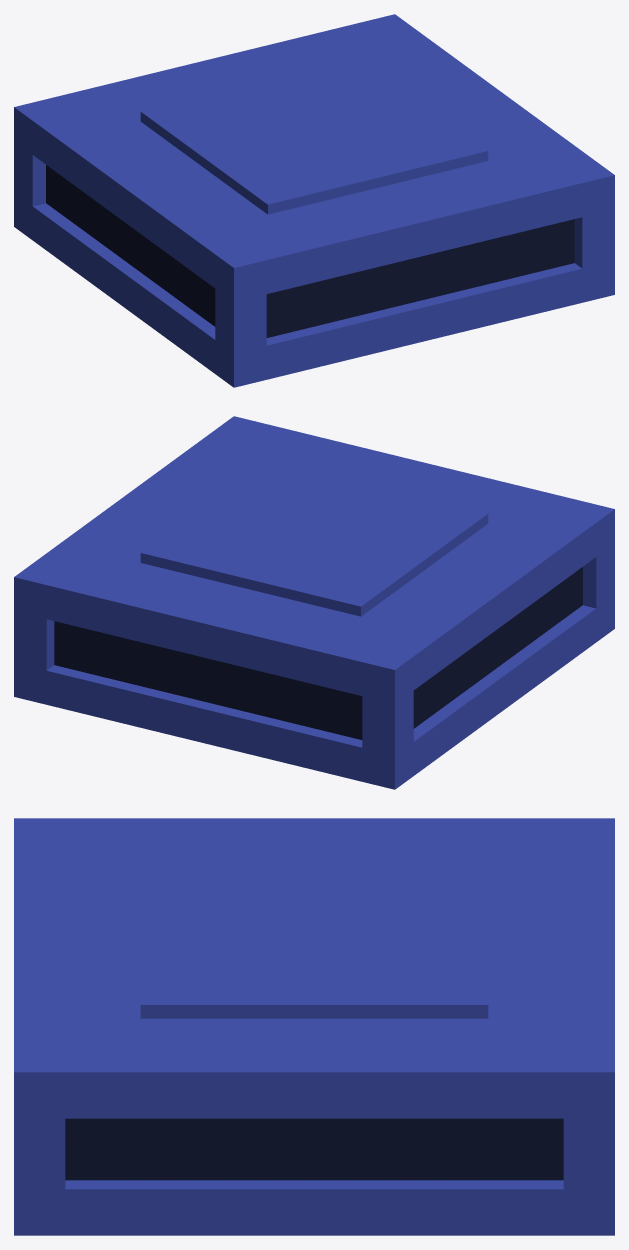
The model's file is top.fbx.
The picture shows the model from 3 angles, top to bottom: view 1: azimuth 30°, elevation 25°; view 2: azimuth 150°, elevation 25°; view 3: azimuth 270°, elevation 25°; orthographic projection. The views are drawn at different scales.
Visible parts, largest first — view 1: top; view 2: top; view 3: top.
Part boxes in pixels (left/top/right/bottom): top: left=14, top=14, right=614, bottom=387; top: left=14, top=416, right=614, bottom=789; top: left=14, top=818, right=614, bottom=1235.
Size of the model in its own units: 200 by 65.04 by 200.
1 material, 1 textured.
